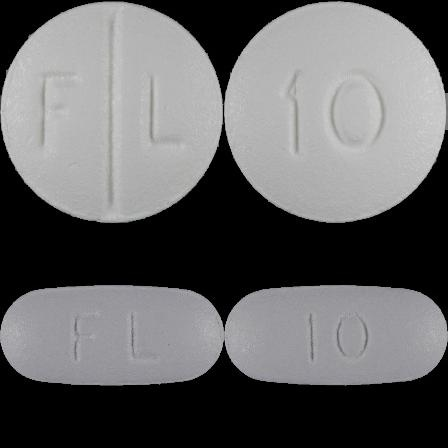55154-4614: (0, 0, 224, 224)
